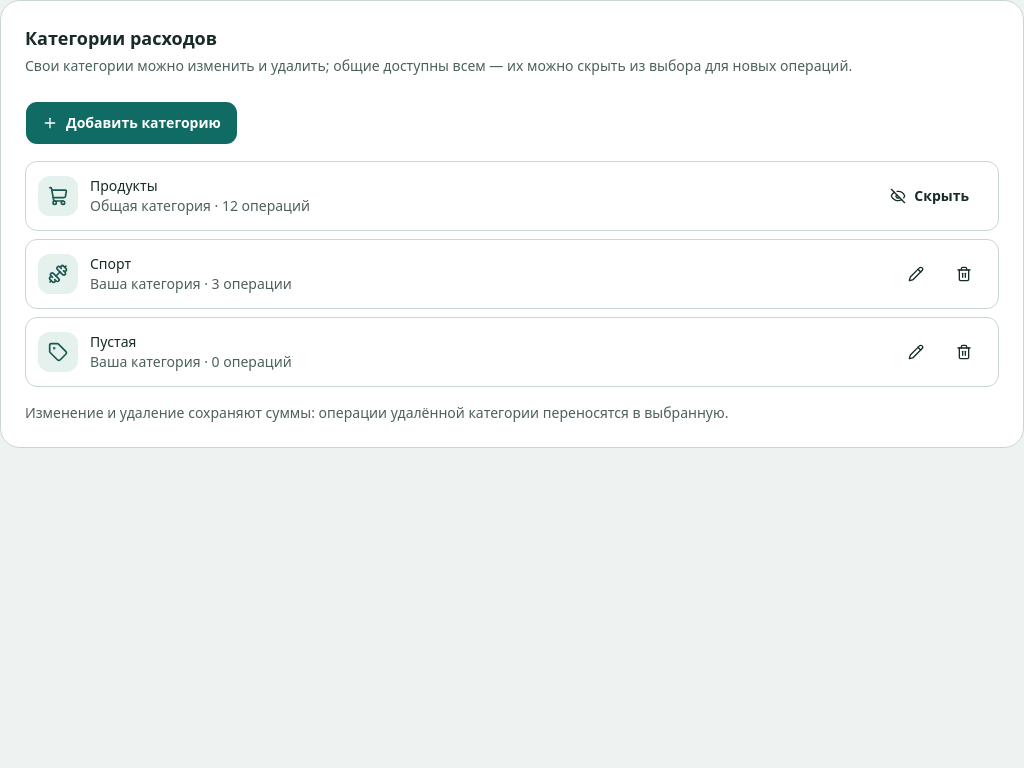
Test: SPEC-0042 categories › changes name and icon of the same ID and keeps the form on a conflict
Click the button named "Изменить Спорт": (916, 274) [894,252,938,296]
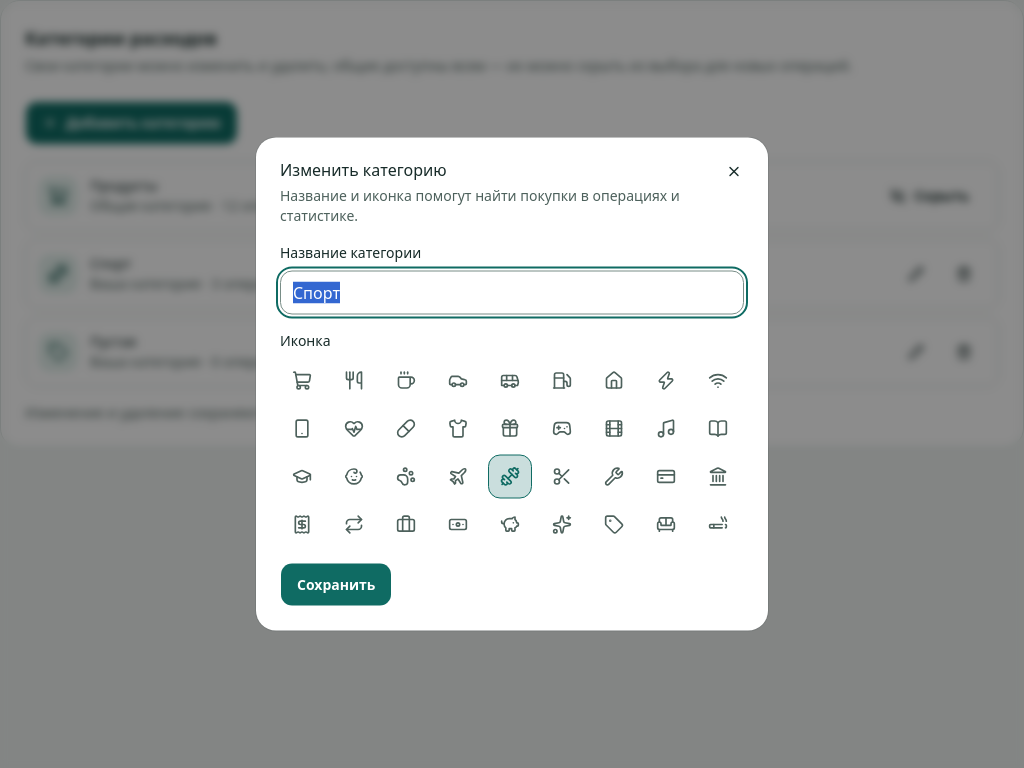
Replace the text in the field labelled "Название категории" with "Кафе": (512, 292) [280,270,744,314]
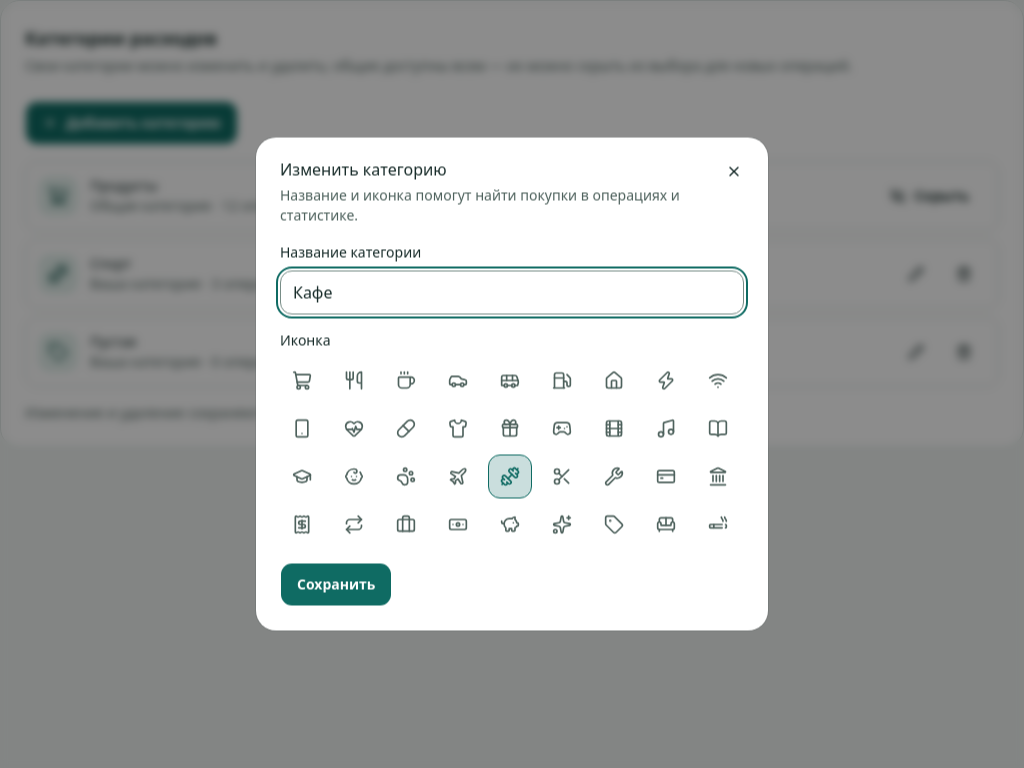
Click the radio button named "Кафе и рестораны": (354, 380) [332,358,376,402]
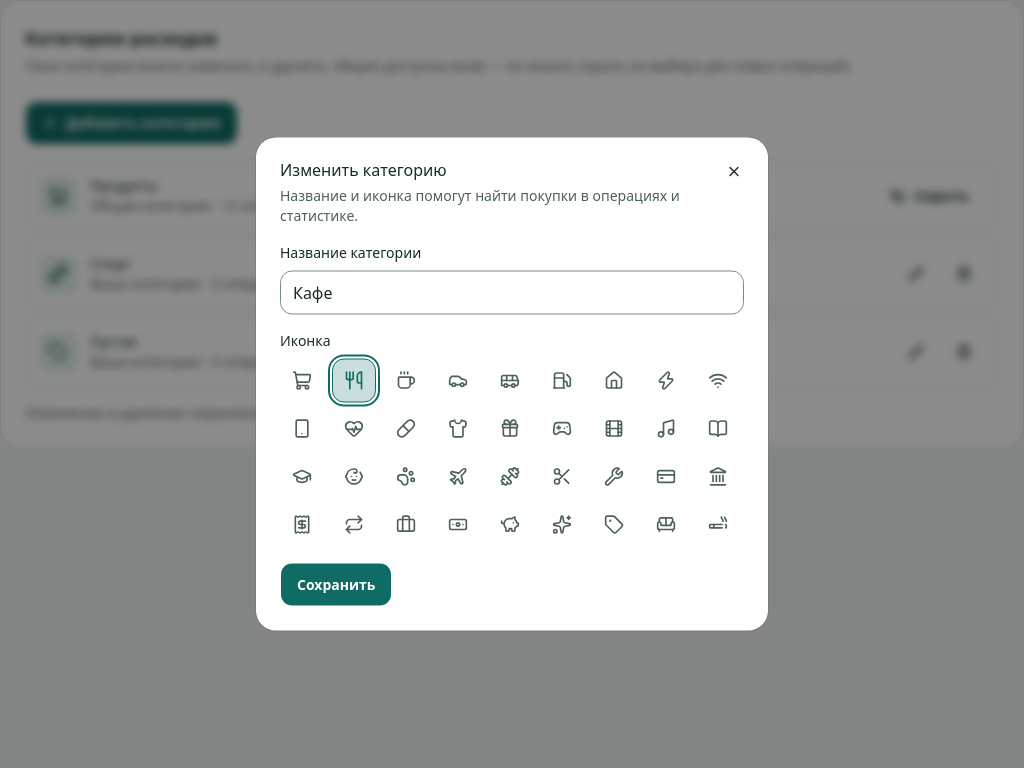
Click the button "Сохранить": (336, 584) [280,562,392,606]
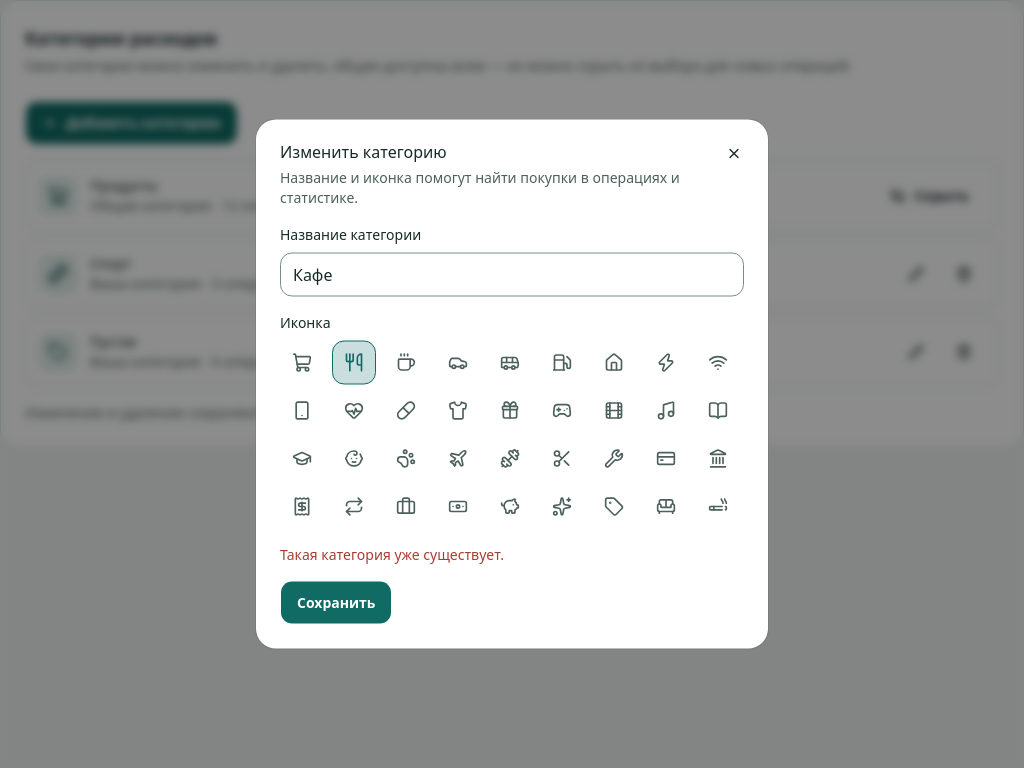
Result: the message shows "уже существует" at [280,544,504,564]
